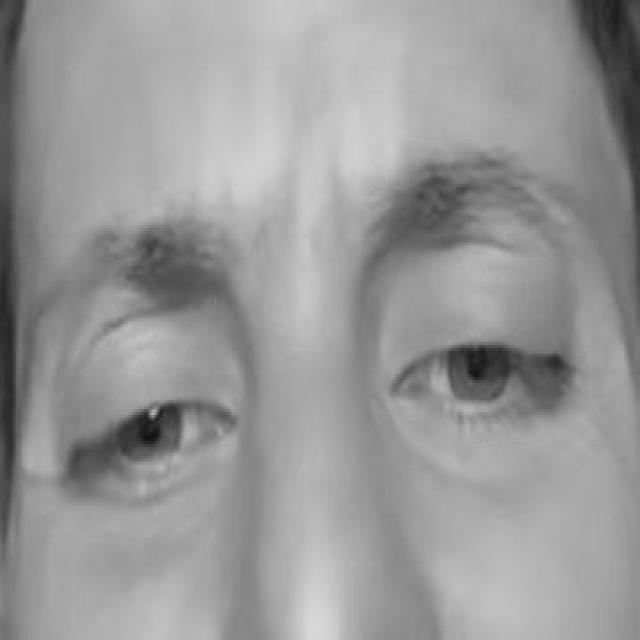real: (31, 239, 599, 516)
